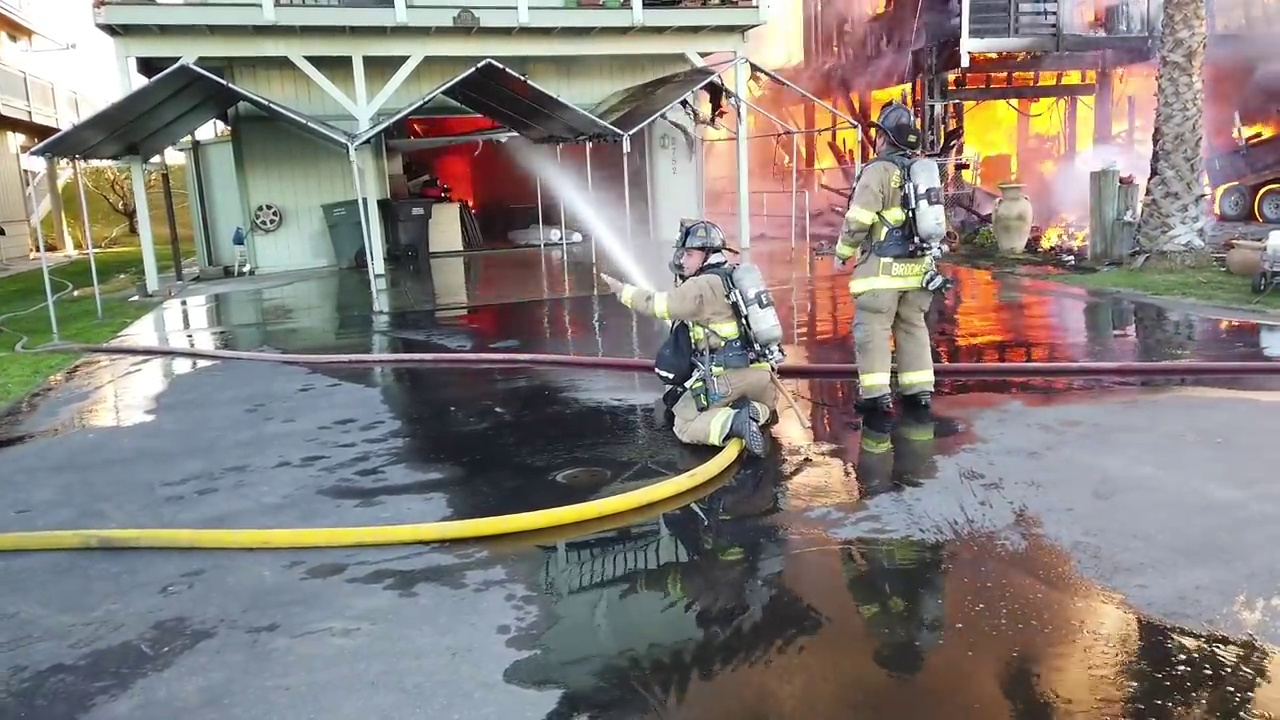fire: (960, 94, 1093, 186), (741, 92, 868, 171), (405, 115, 496, 201), (1106, 65, 1157, 160), (1213, 169, 1280, 230), (1038, 219, 1092, 260), (1219, 110, 1278, 144)
smoke: (805, 3, 911, 84), (1043, 142, 1149, 221), (1201, 1, 1279, 106)
